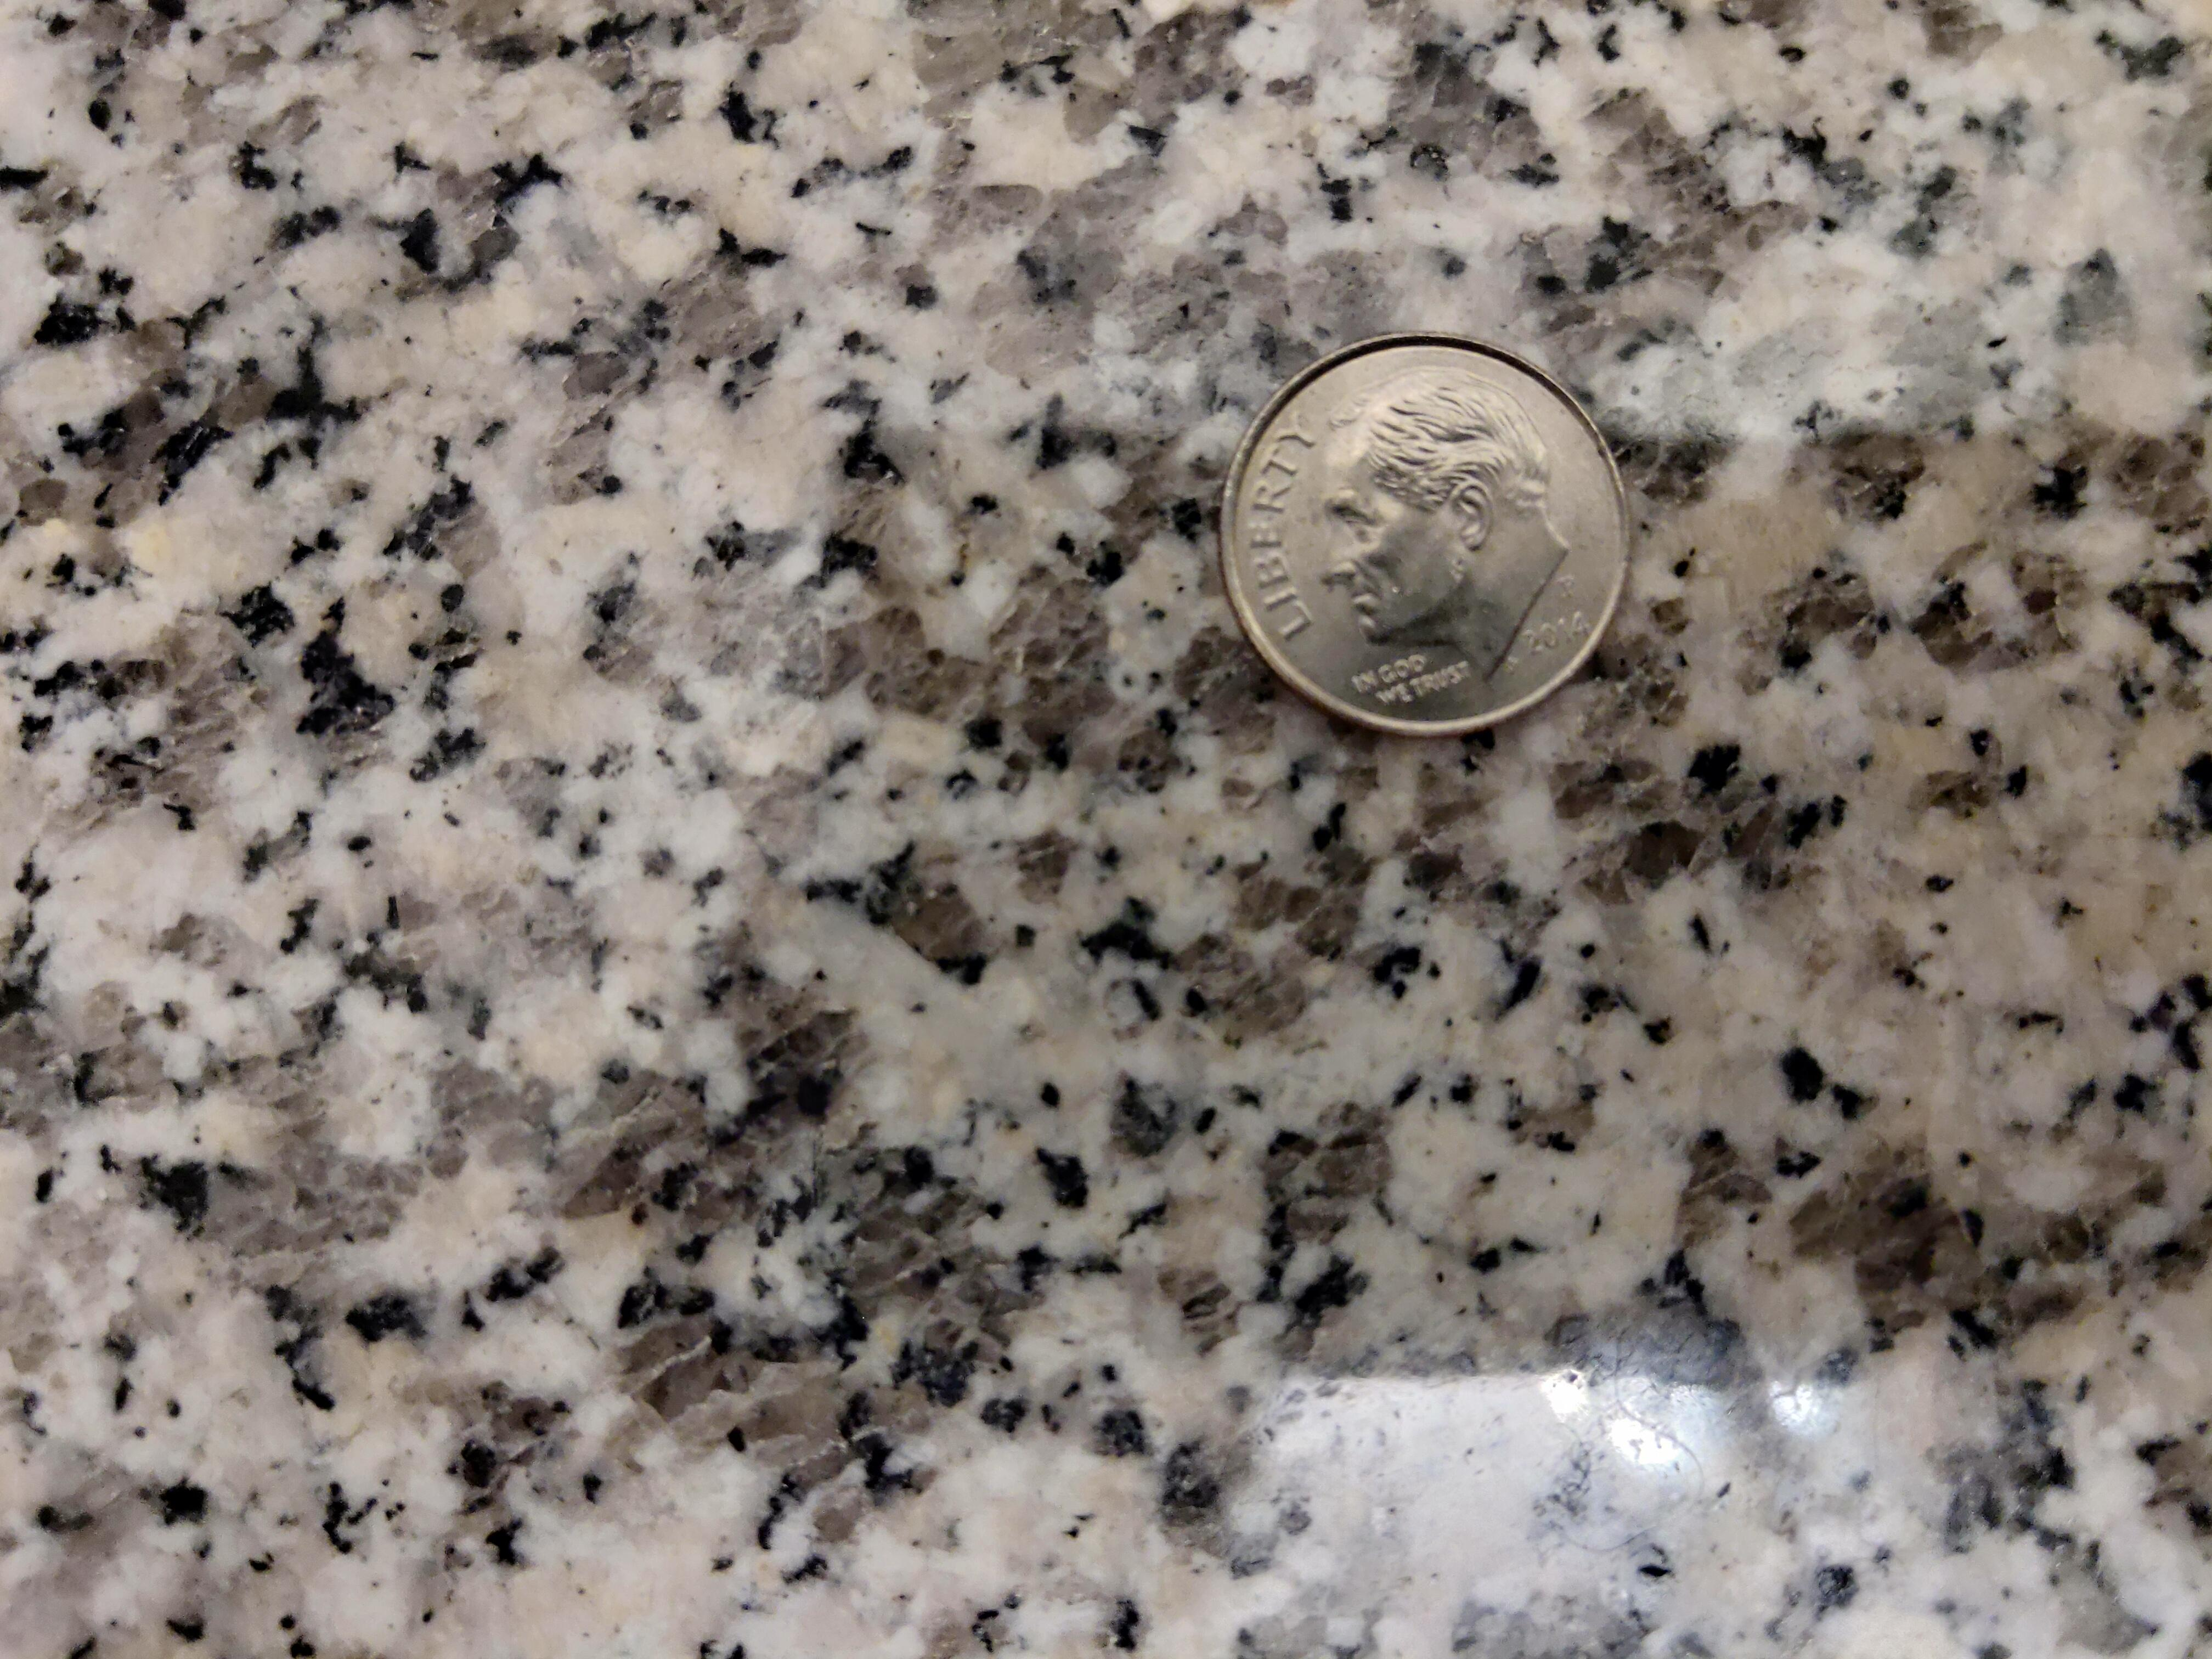Dime: (1214, 329, 1639, 737)
